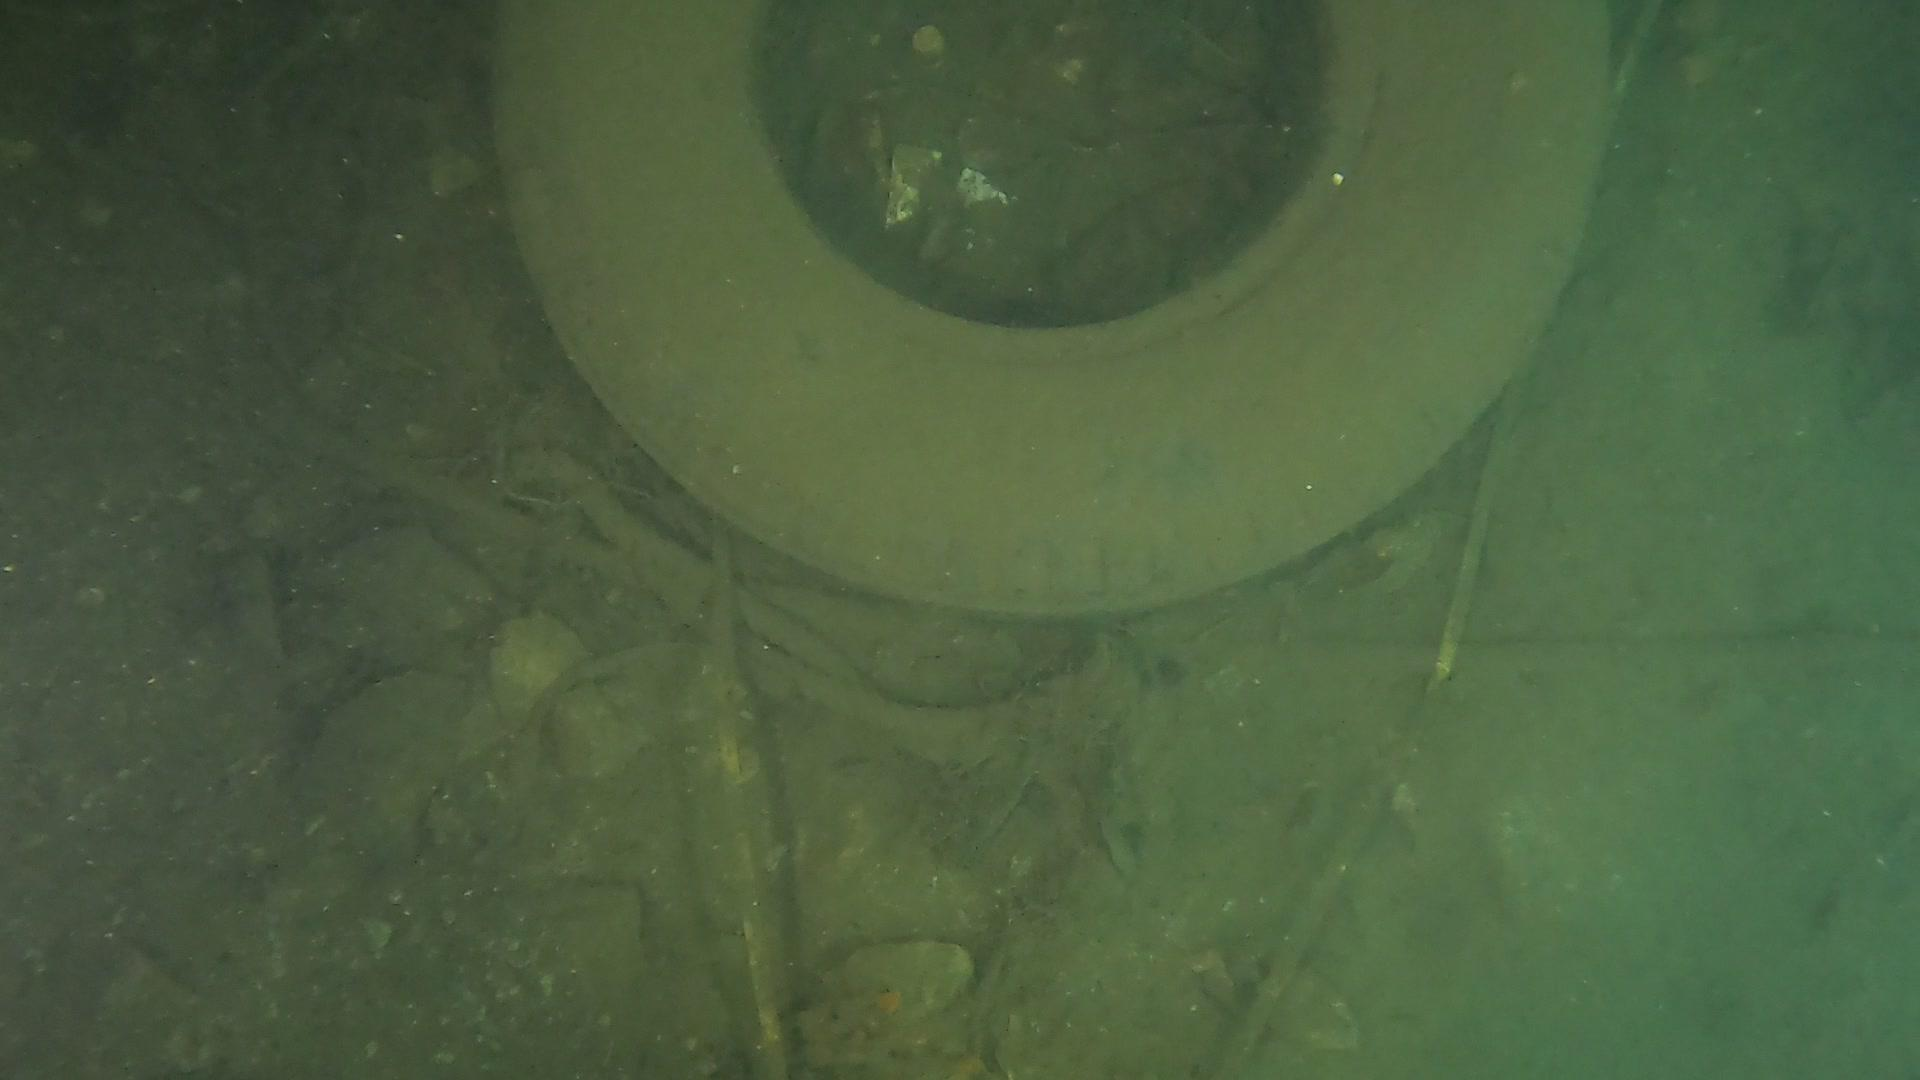bundle of ropes: (487, 448, 1040, 764)
tire: (483, 0, 1619, 624)
